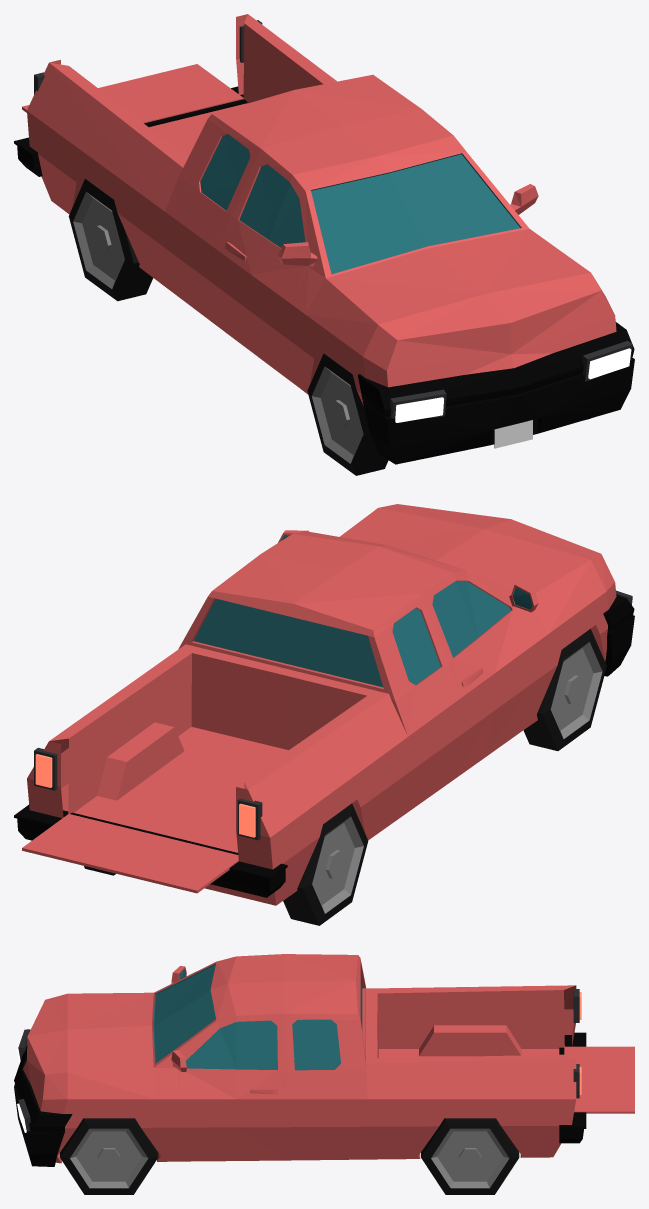
File: pickup_truck_lit.glb
The picture shows the model from 3 angles, top to bottom: view 1: azimuth 30°, elevation 25°; view 2: azimuth 150°, elevation 25°; view 3: azimuth 270°, elevation 25°; orthographic projection. The views are drawn at different scales.
Parts seen in each view (by area): view 1: Main_Car-material, Window-material, Bumpers-material, Metal-material, Black-material, Tailgate, lamp_head_r, License_Plate-material, lamp_head_l; view 2: Main_Car-material, Window-material, Tailgate, Metal-material, Black-material, Bumpers-material; view 3: Main_Car-material, Window-material, Metal-material, Black-material, Tailgate, Bumpers-material.
Boxes of the visible parts, bbox=[...] form: Main_Car-material: bbox=[27, 14, 616, 406]; Window-material: bbox=[200, 134, 521, 274]; Bumpers-material: bbox=[14, 86, 634, 464]; Metal-material: bbox=[73, 192, 363, 463]; Black-material: bbox=[68, 179, 590, 475]; Tailgate: bbox=[22, 64, 243, 123]; lamp_head_r: bbox=[395, 397, 443, 422]; License_Plate-material: bbox=[494, 420, 532, 448]; lamp_head_l: bbox=[588, 348, 631, 379]; Main_Car-material: bbox=[27, 504, 616, 905]; Window-material: bbox=[194, 534, 532, 687]; Tailgate: bbox=[22, 814, 238, 893]; Metal-material: bbox=[312, 642, 602, 913]; Black-material: bbox=[84, 629, 606, 925]; Bumpers-material: bbox=[14, 595, 634, 897]; Main_Car-material: bbox=[23, 954, 576, 1163]; Window-material: bbox=[153, 963, 362, 1070]; Metal-material: bbox=[70, 1128, 509, 1188]; Black-material: bbox=[60, 1118, 519, 1194]; Tailgate: bbox=[564, 1046, 634, 1113]; Bumpers-material: bbox=[14, 1032, 586, 1166].
Bounding box in the file's own units: 1.91 × 1.6 × 5.27.
